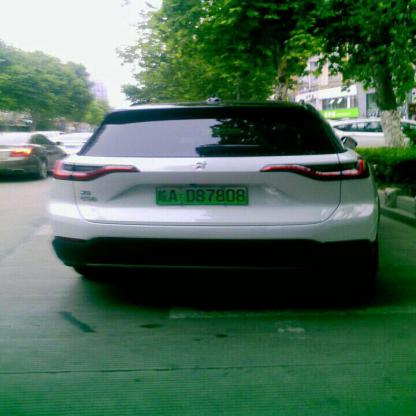lp: (155, 186, 248, 204)
